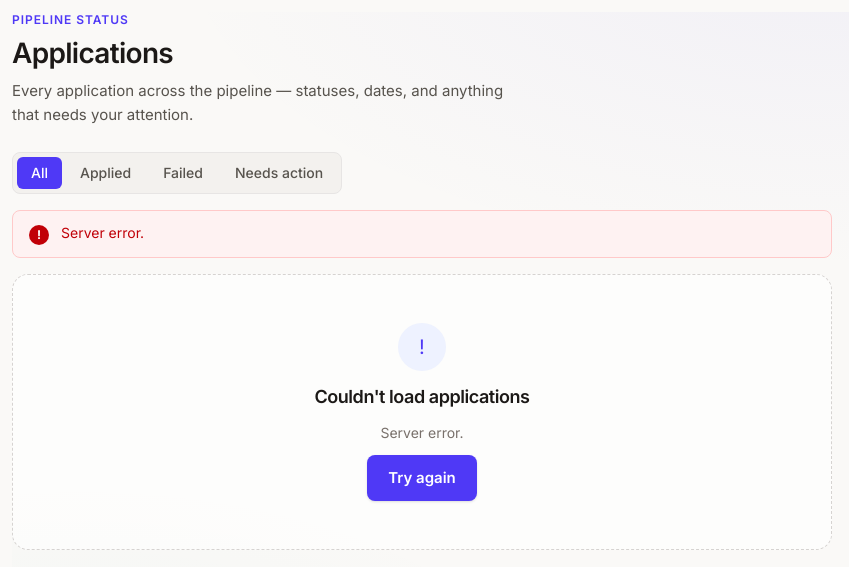
Scenario: ApplicationsPage › shows an error state with retry when the fetch fails
This screenshot has width=849, height=567.
Expected: the heading "Couldn't load applications" is shown, top-left (314, 383), bottom-right (530, 411)
Click the button "Try again": (422, 478) top-left (367, 455), bottom-right (477, 501)
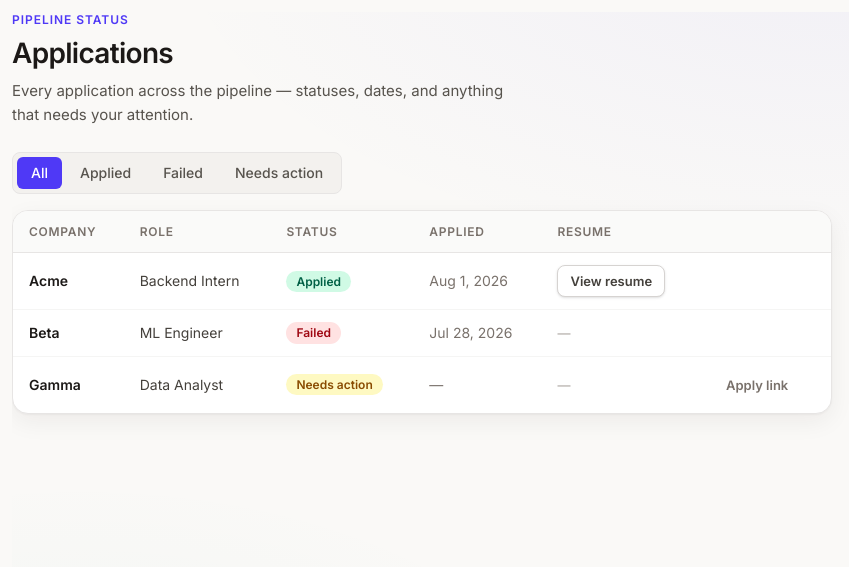
Expected: the text "Acme" is shown, top-left (13, 252), bottom-right (124, 310)
